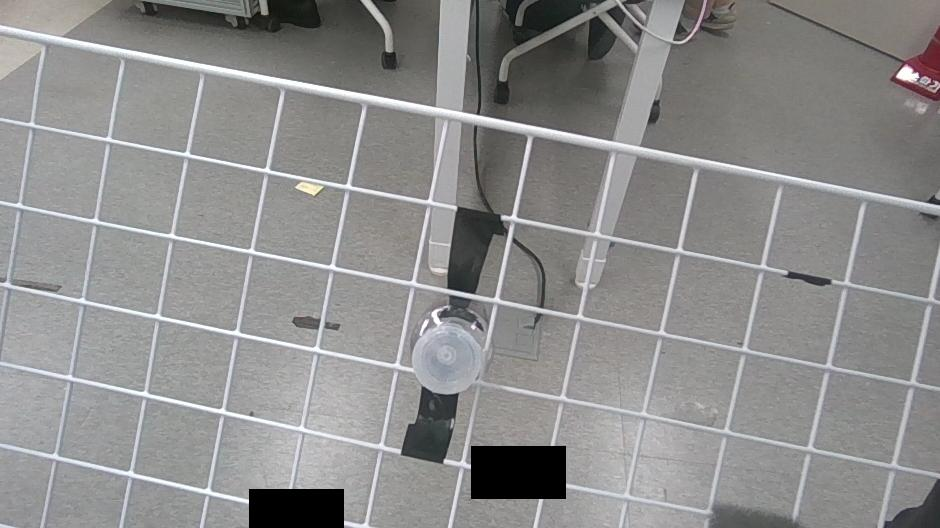Cap: (409, 320, 487, 395)
